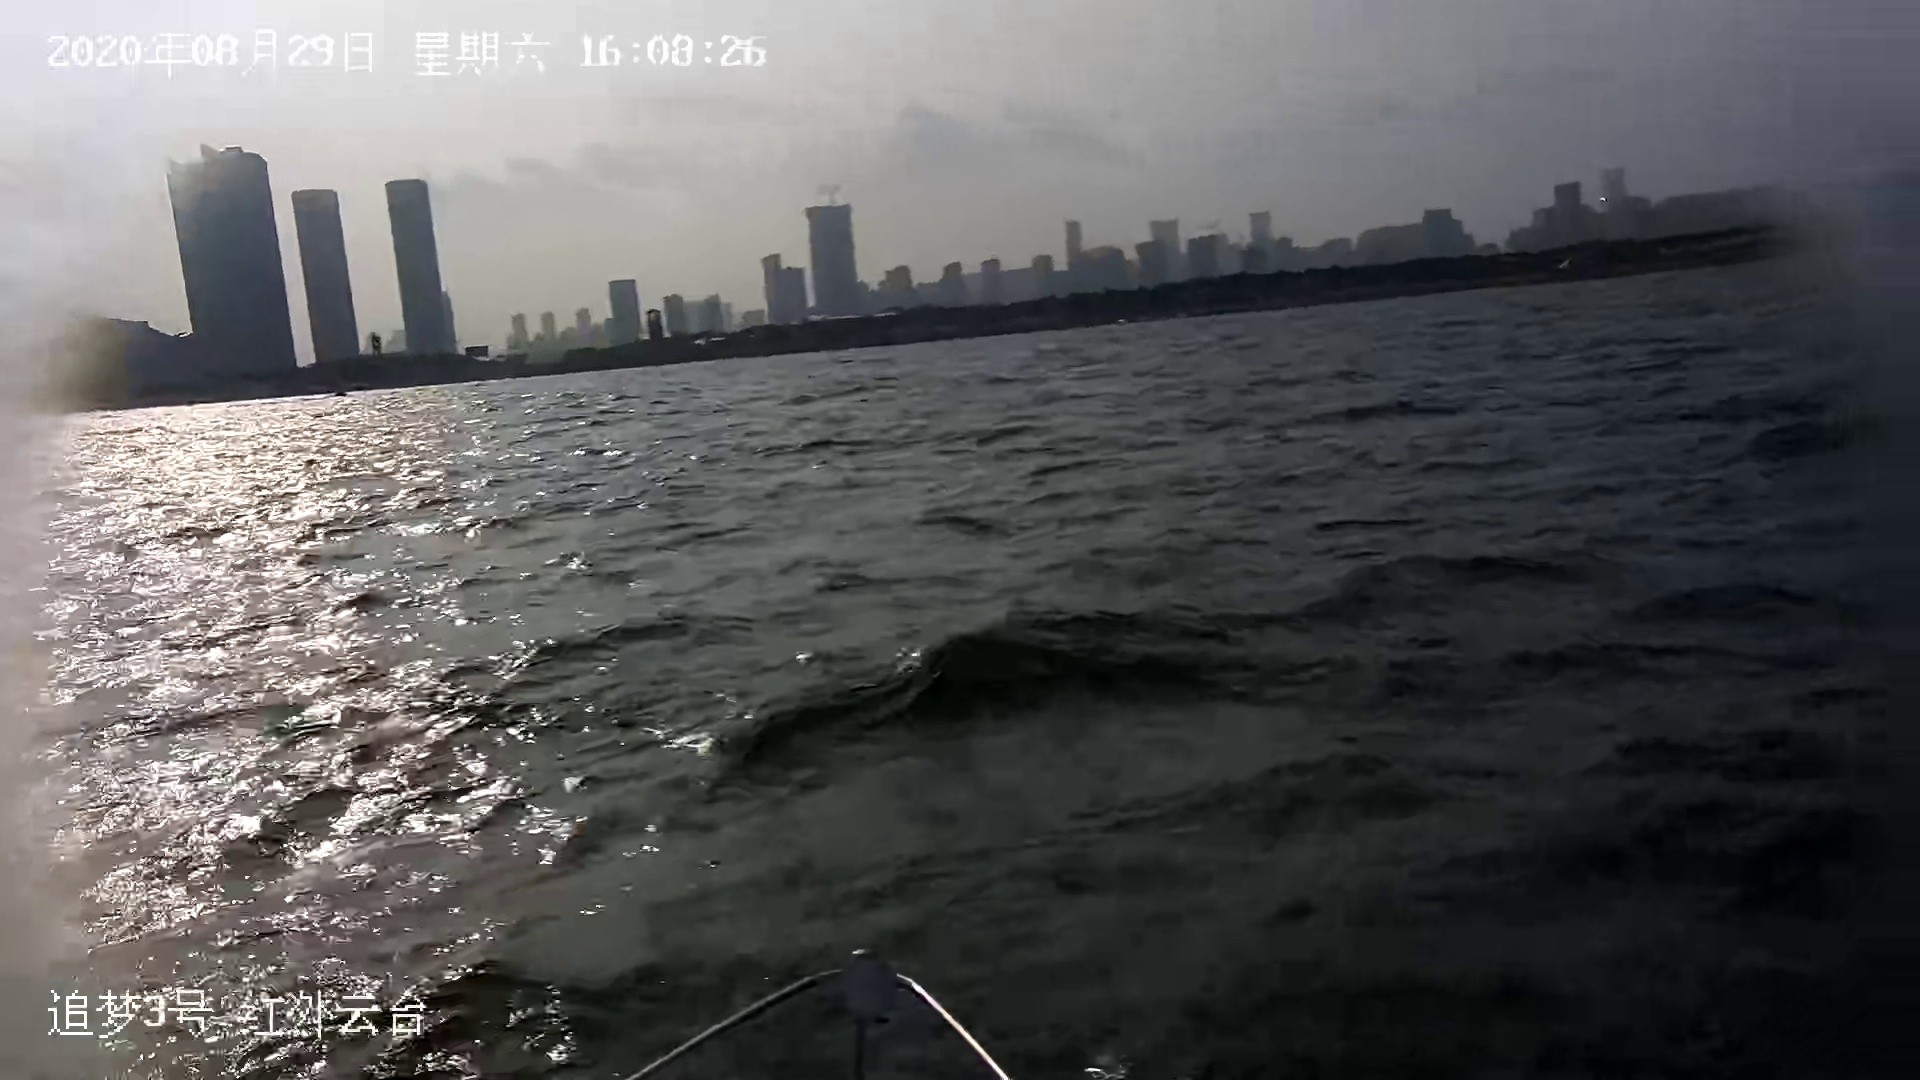coast: (17, 142, 1920, 402)
